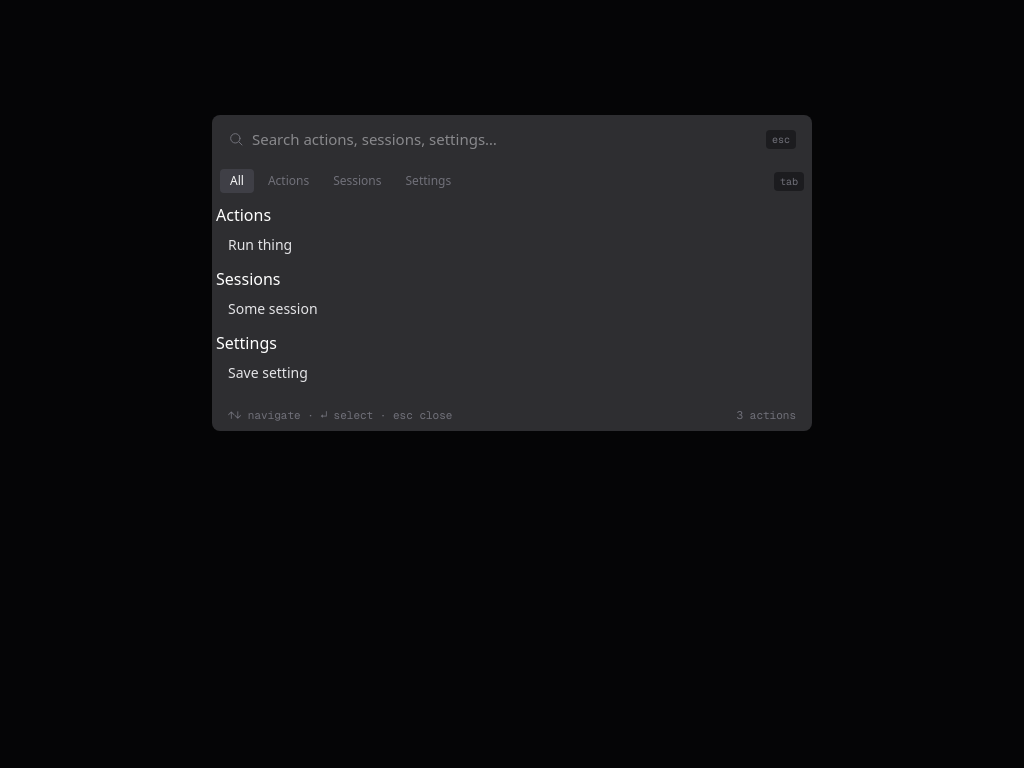
Test: CommandPalette › category tabs › scopes the list to one group when a category tab is clicked
Step 1. Click the tab "Settings" → (428, 181), box [396,169,461,193]
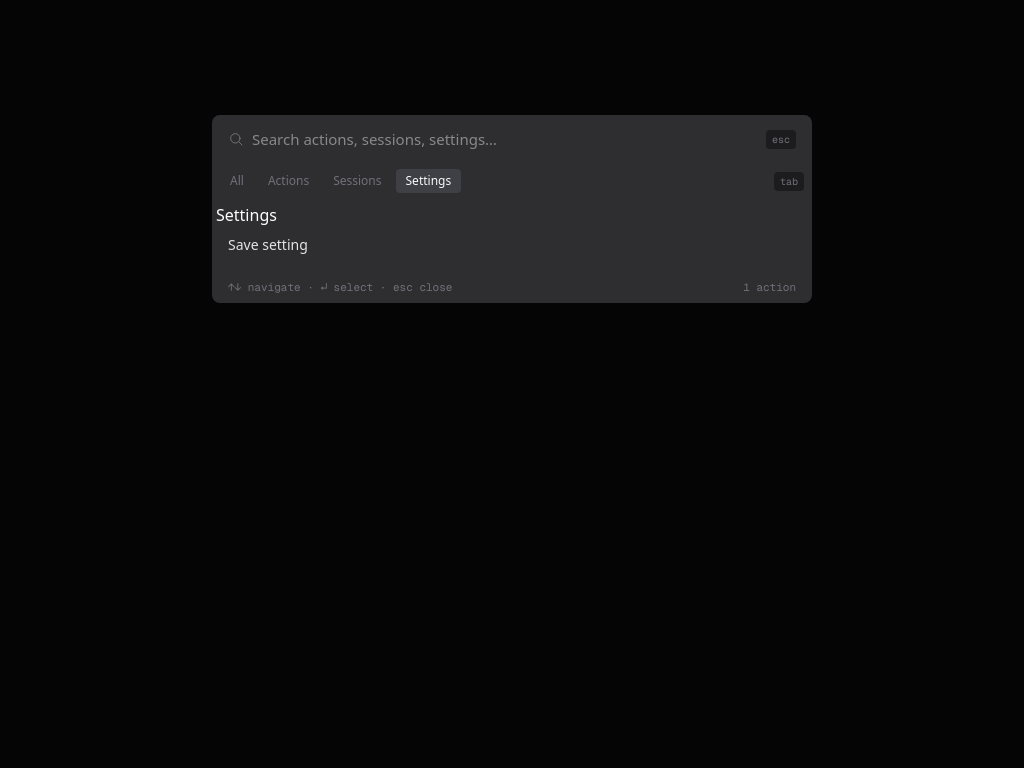
expect the text "Save setting" is shown: met, box [228,235,308,255]
expect the option "Run thing" is gone: met
expect the option "Some session" is gone: met
